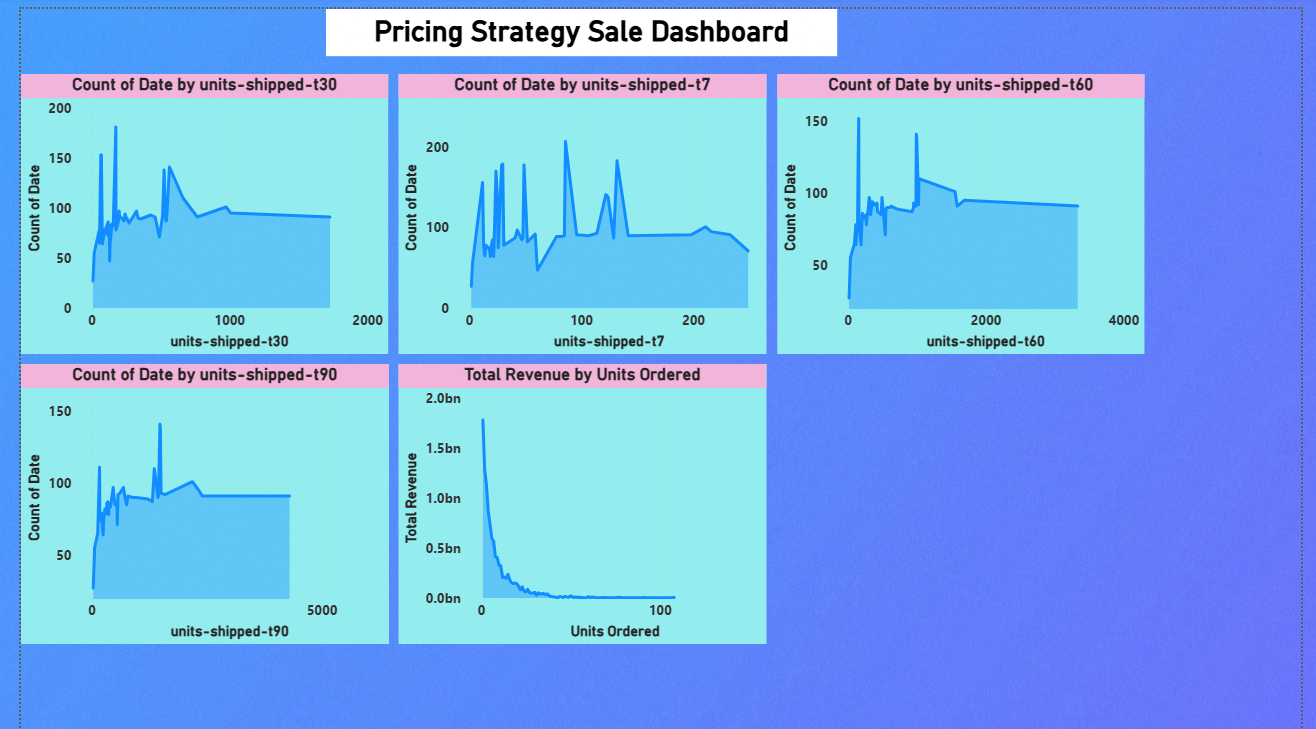

What the dashboard file says about the page in this screenshot:
{"tool":"powerbi","page":{"name":"Page 2","canvas":[1280,720],"ordinal":1},"visuals":[{"type":"stackedAreaChart","fields":{"Category":["Pricing Data.units-shipped-t30"],"Y":["CountNonNull(Pricing Data.Date)"]},"box":[0,65,367.5,280],"z":0},{"type":"lineChart","fields":{"Category":["Pricing Data.units-shipped-t60"],"Y":["CountNonNull(Pricing Data.Date)"]},"box":[756.2,65,367.5,280],"z":1},{"type":"lineChart","fields":{"Category":["Pricing Data.units-shipped-t7"],"Y":["CountNonNull(Pricing Data.Date)"]},"box":[378,65,368,280],"z":2},{"type":"lineChart","fields":{"Category":["Pricing Data.units-shipped-t90"],"Y":["CountNonNull(Pricing Data.Date)"]},"box":[0,355,368,280],"z":3},{"type":"lineChart","title":"Total Revenue by Units Ordered","fields":{"Category":["Pricing Data.Units Ordered"],"Y":["Sum(Pricing Data.Total Revenue)"]},"box":[378,355,368,280],"z":4},{"type":"textbox","box":[305,0,511.2,47.5],"z":5}]}

Visuals, with their boxes in screenshot pixels (x1, y1, x2, y2), scaled from the page's 1280x720 canvas onto the 1316x729 screenshot:
stackedAreaChart - Pricing Data.units-shipped-t30 x CountNonNull(Pricing Data.Date): (0,66,378,349)
lineChart - Pricing Data.units-shipped-t60 x CountNonNull(Pricing Data.Date): (777,66,1155,349)
lineChart - Pricing Data.units-shipped-t7 x CountNonNull(Pricing Data.Date): (389,66,767,349)
lineChart - Pricing Data.units-shipped-t90 x CountNonNull(Pricing Data.Date): (0,359,378,643)
"Total Revenue by Units Ordered" lineChart: (389,359,767,643)
textbox: (314,0,839,48)
